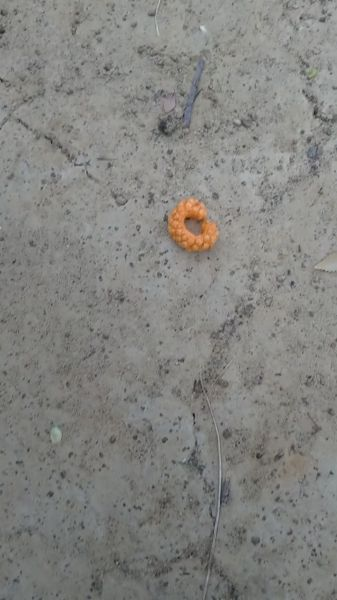eggs: (164, 187, 223, 251)
